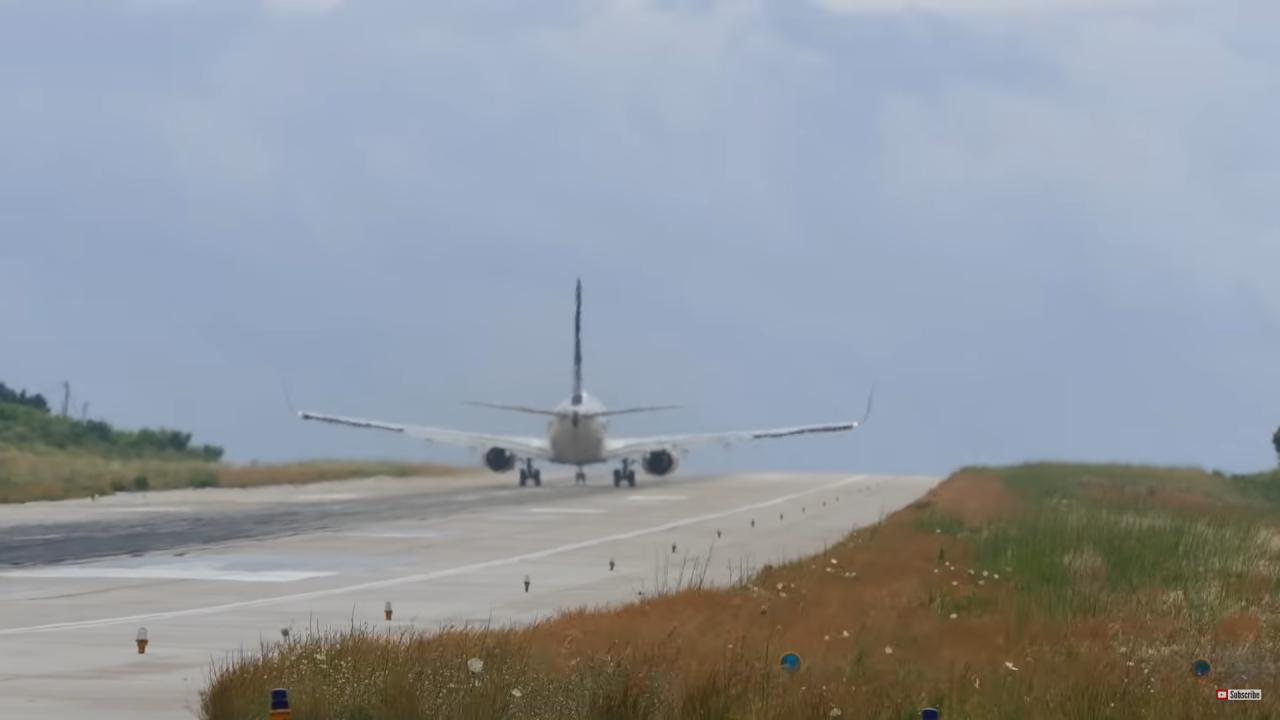Airplane: (270, 265, 888, 502)
